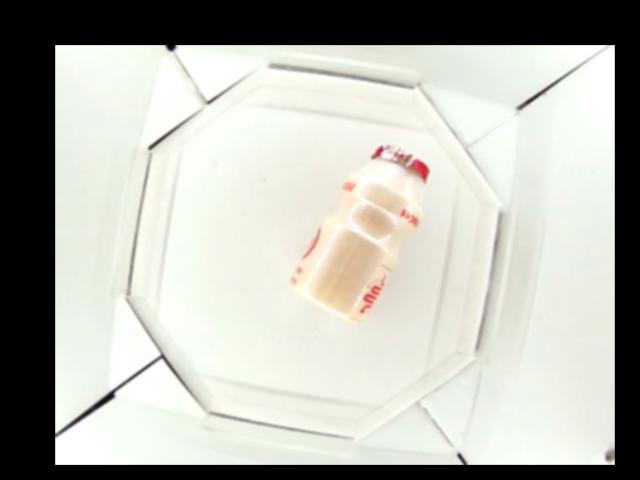Bottle: (289, 145, 435, 324)
